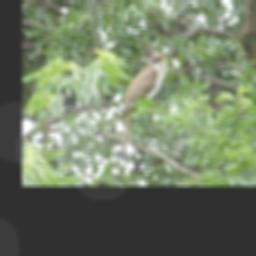Cuckoo: (117, 48, 175, 163)
